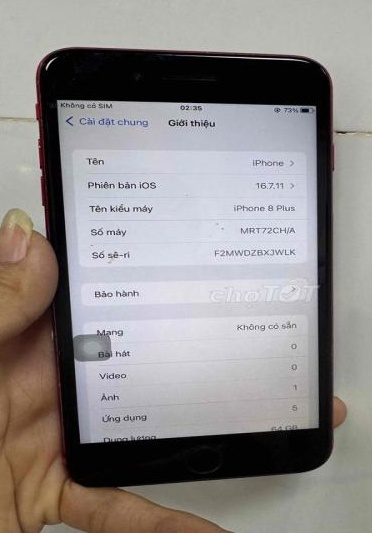scratch: (79, 233, 127, 267), (204, 216, 229, 238)
